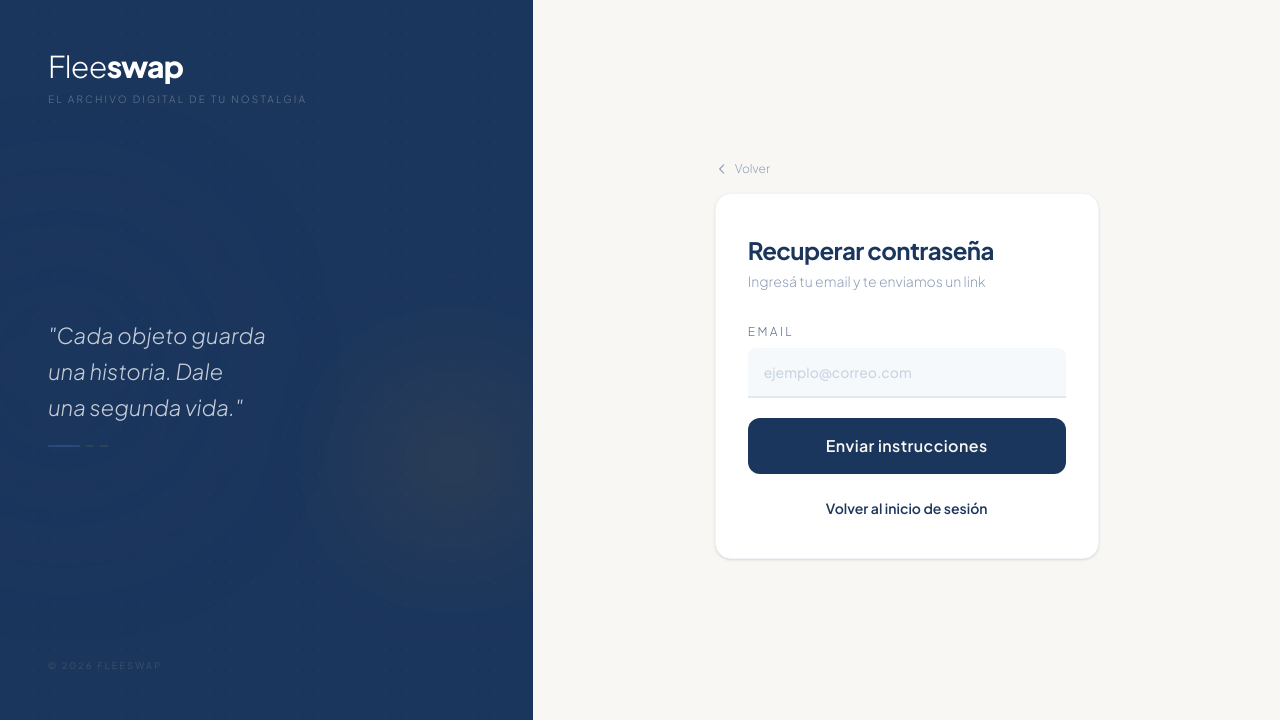
Test: Forgot password › valida que el email sea obligatorio
The width and height of the screenshot is (1280, 720).
Click the button "Enviar instrucciones" at (907, 446), box top-left (748, 418), bottom-right (1066, 474)
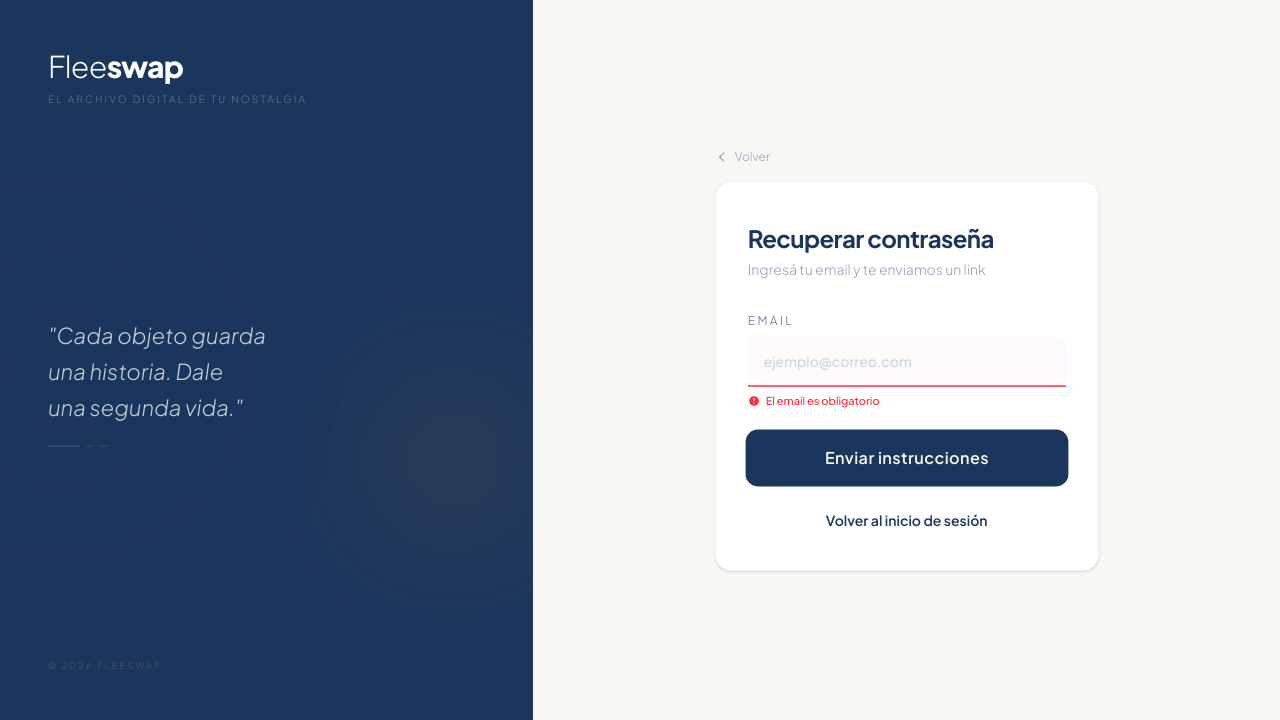
Result: the text "El email es obligatorio" is shown at top-left (748, 394), bottom-right (880, 407)
